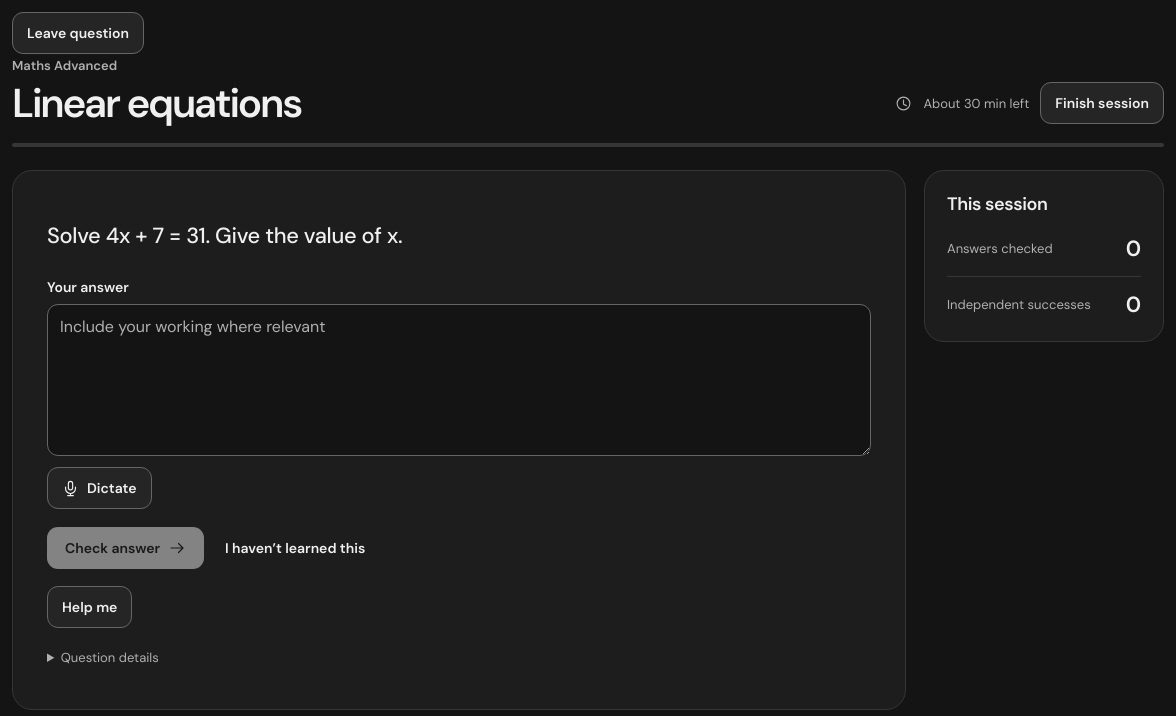
Test: actual study UI captures the tail on Enter, saves it and submits once
The image size is (1176, 716).
Click the button "Dictate" at (99, 488), box [47,467,152,509]
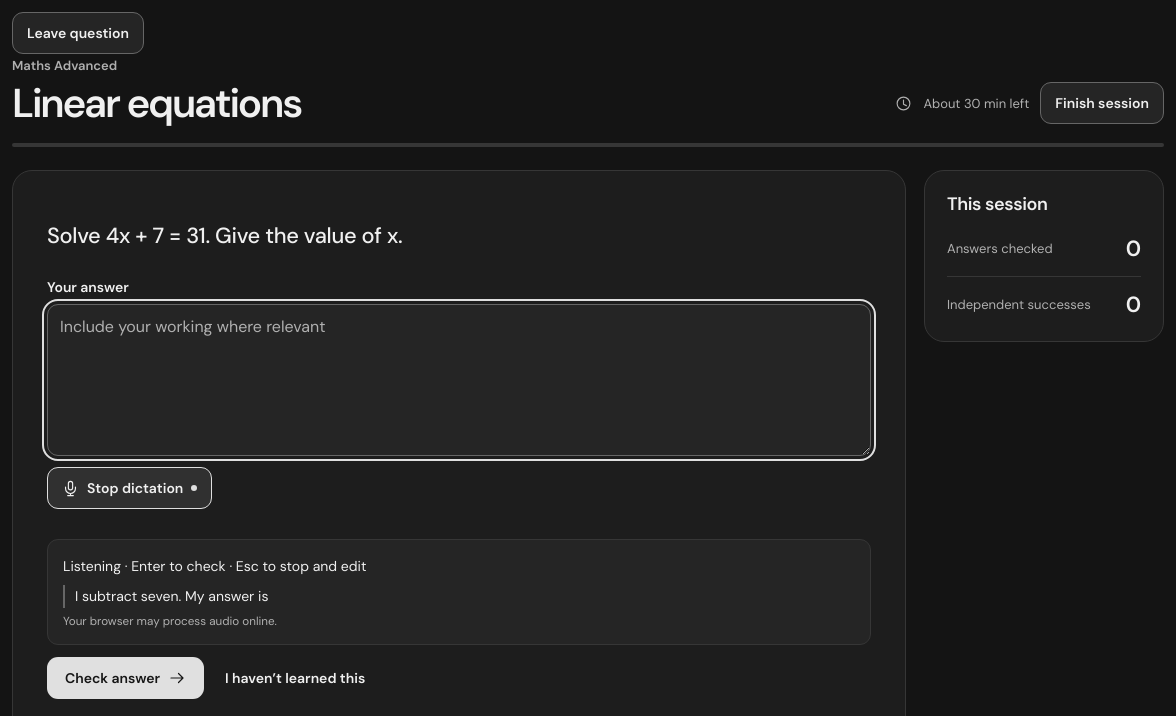
Press Enter in the text box labelled "Your answer", box [47,304,871,456]
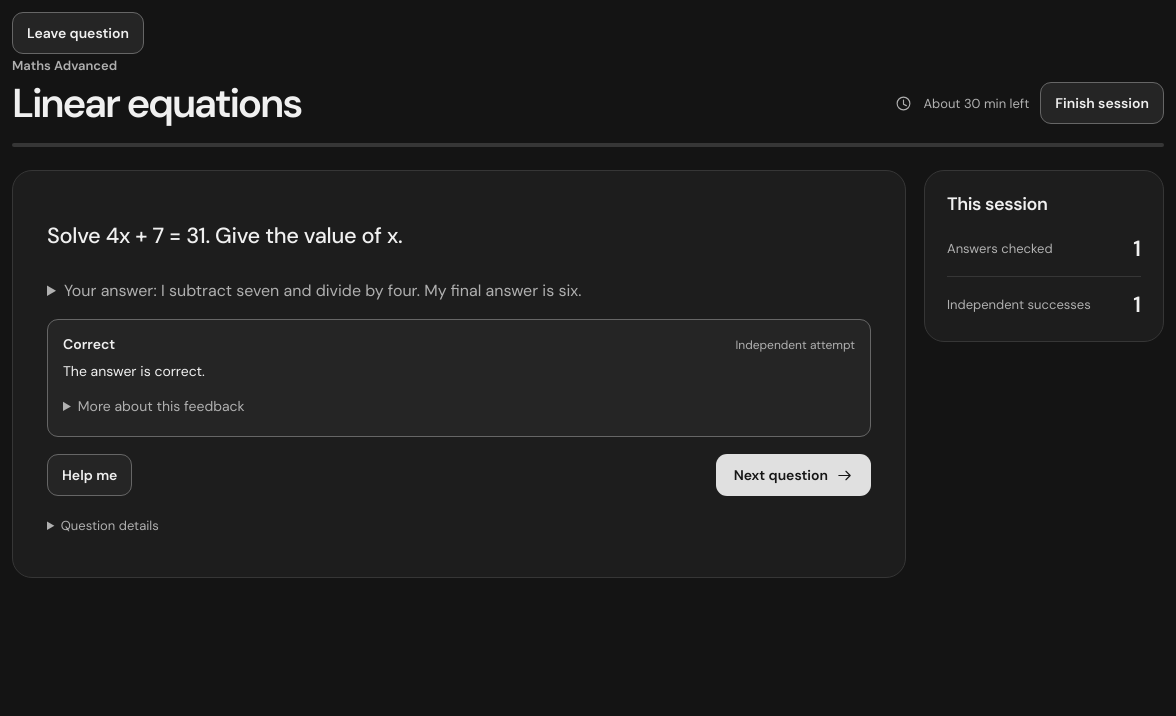
Now the text "The answer is correct." is shown, box [63,362,205,380]
